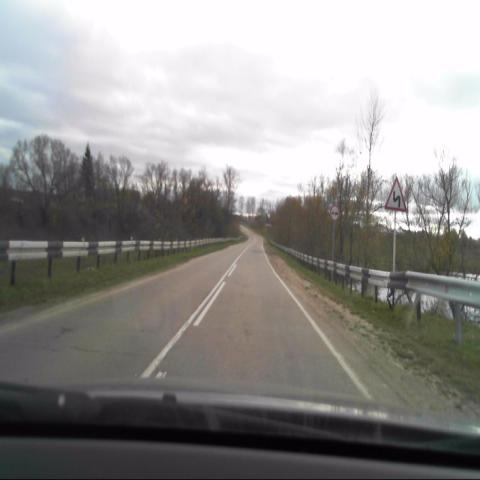1_12_2: (386, 179, 405, 213)
